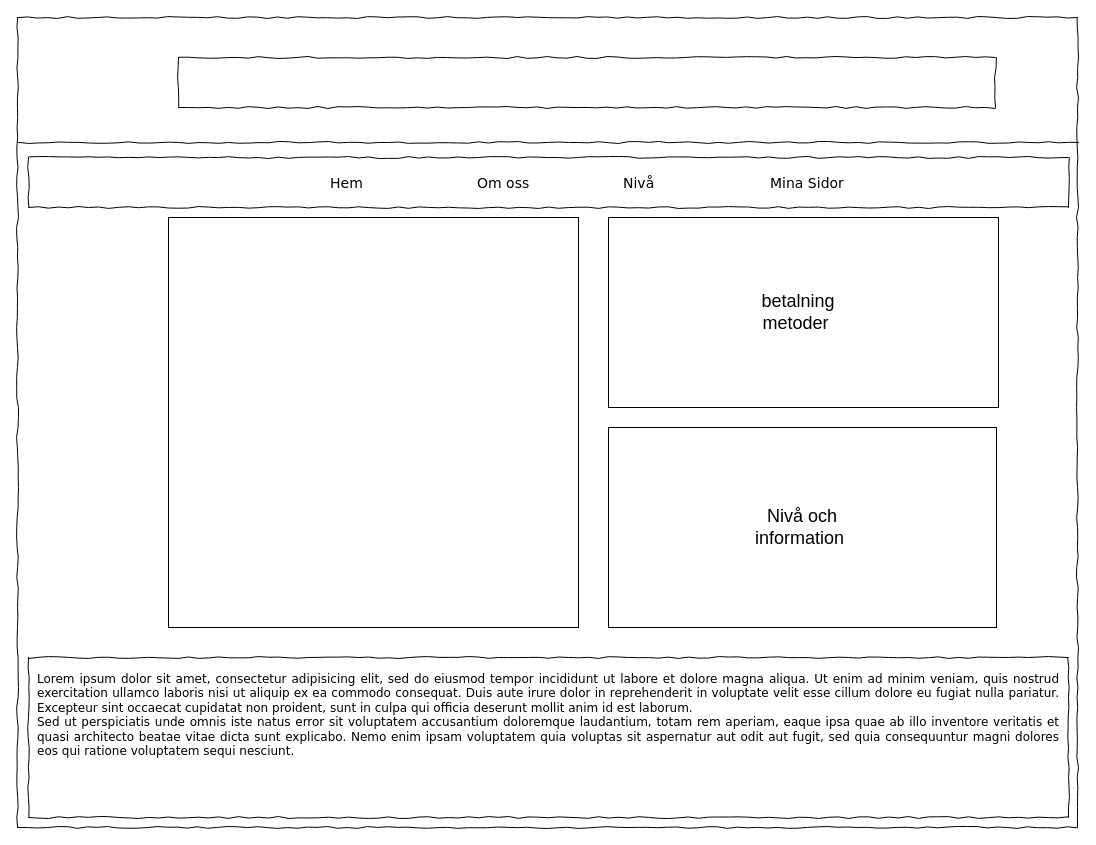
Image size: 1096x845. Some labels were removed from this diagram. The centre of each missing label's shape, as x and y in pixels:
"Mathlingo" belongs at (587,82).
"Personlig Informationen" belongs at (373,422).
